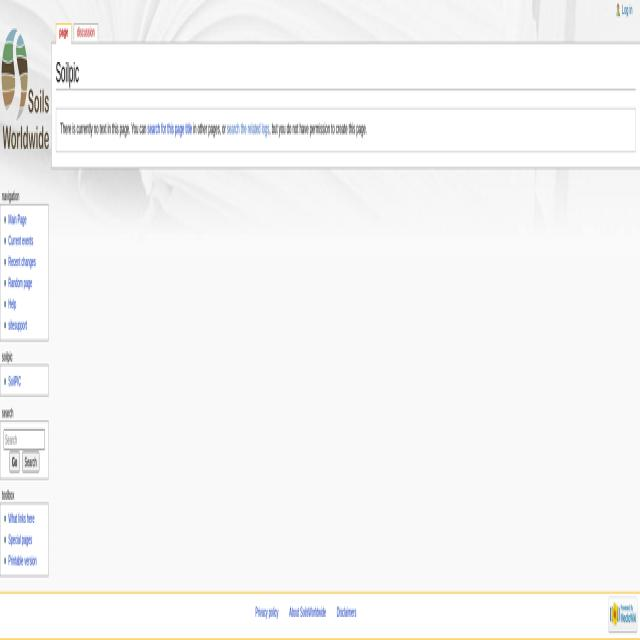button: (614, 602, 632, 627)
field: (3, 429, 45, 450), (22, 451, 39, 473), (10, 451, 20, 473)
